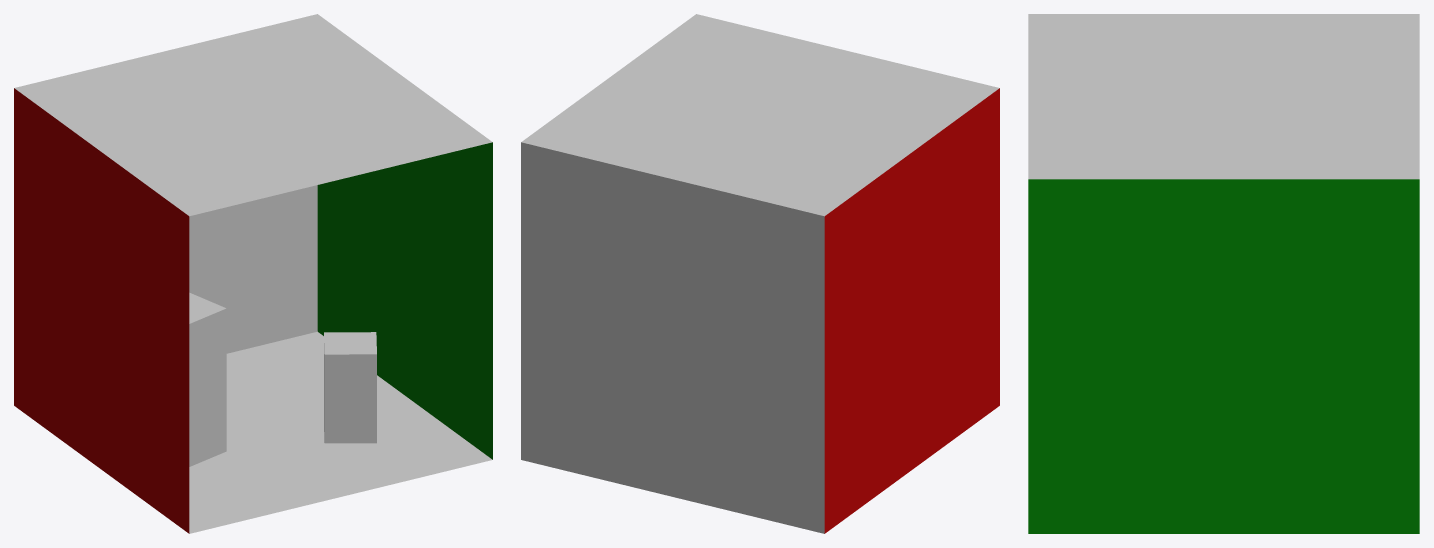
File: cornell-onelight.obj
3 renders of one model, left to right at view 1: azimuth 30°, elevation 25°; view 2: azimuth 150°, elevation 25°; view 3: azimuth 270°, elevation 25°, orthographic. The views are drawn at different scales.
Visible parts, largest first — view 1: Cube, Cube.001, Cube.002; view 2: Cube; view 3: Cube.
Part boxes in pixels (<box>): Cube: <box>14,14,492,533</box>; Cube.001: <box>189,292,226,466</box>; Cube.002: <box>324,332,376,443</box>; Cube: <box>521,14,999,533</box>; Cube: <box>1028,14,1419,533</box>.
Bounding box in the file's own units: 2 × 2.01 × 2.
